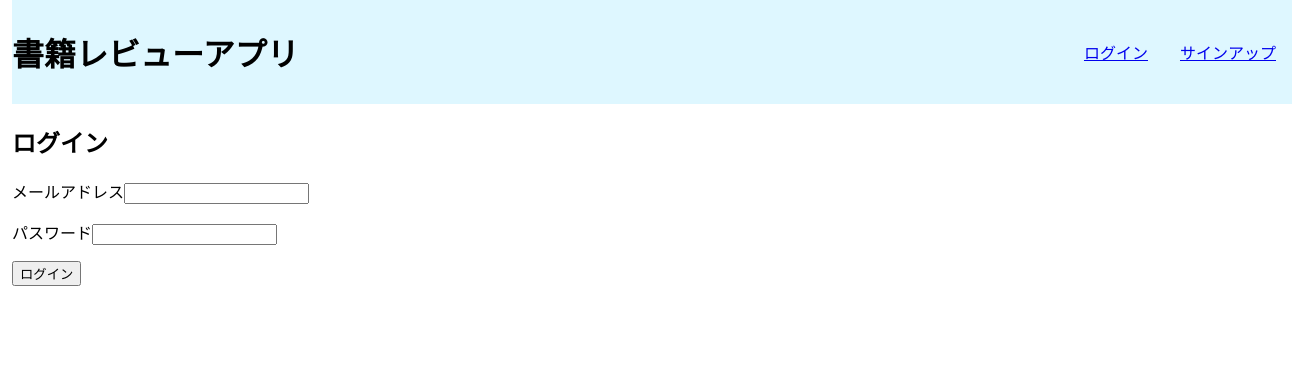
Test: 入力フォームテスト › メールエラー表示チェック
This screenshot has width=1292, height=383.
In the field labelled "メールアドレス": (217, 194) [124, 183, 309, 204], type "abcd"
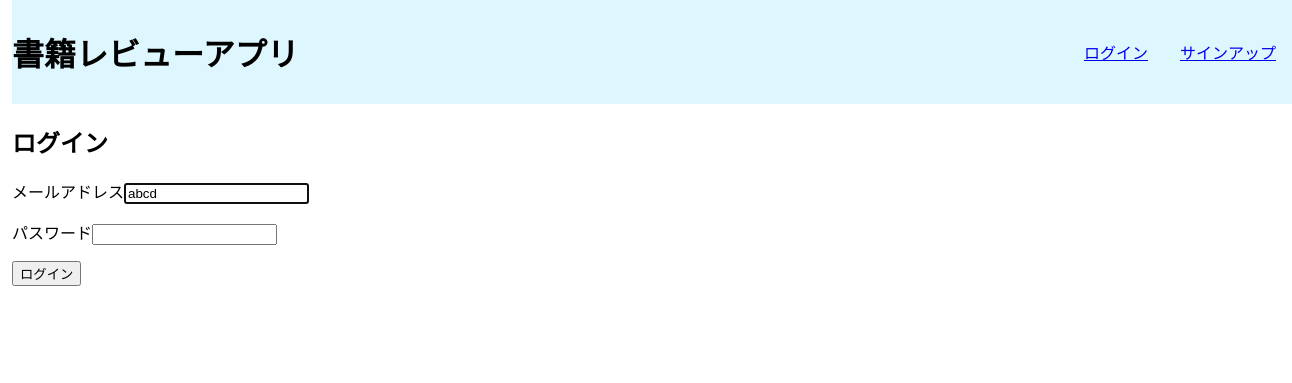
Click the button with class "submit": (47, 274) [12, 261, 81, 286]
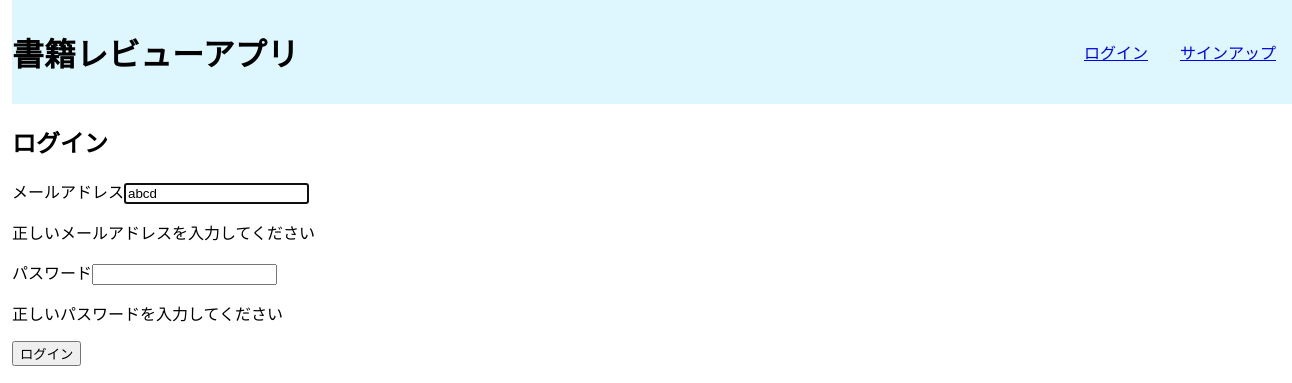
Now the text "正しいメールアドレスを入力してください" is shown, box [12, 223, 315, 243]
